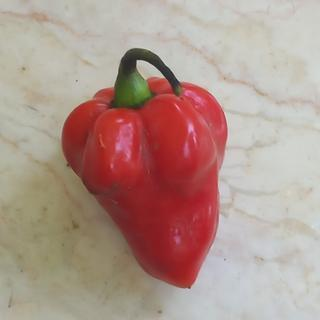Grade-A: (56, 71, 231, 293)
